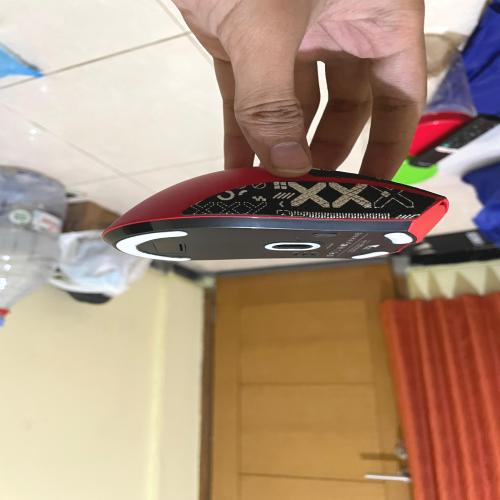Mouse: (93, 154, 460, 272)
